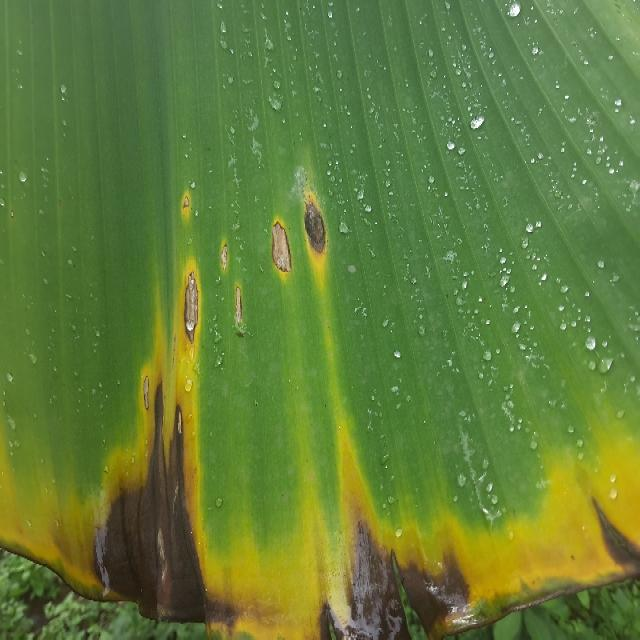Cordana: (0, 337, 640, 640), (122, 155, 255, 350), (259, 172, 363, 319)
